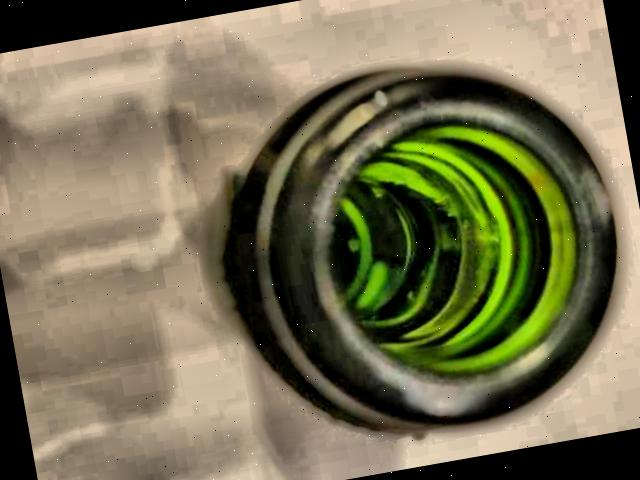Bottles: (162, 14, 640, 477)
